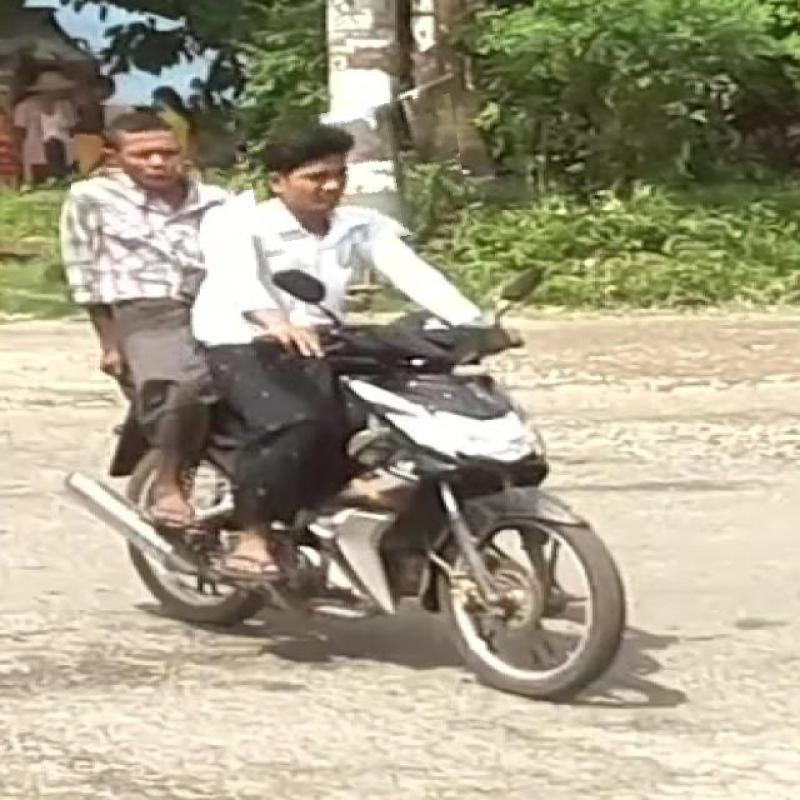nohelmet: (248, 101, 466, 251), (72, 106, 234, 206)
